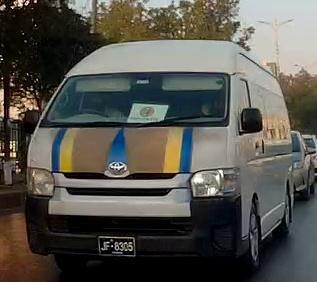car: (21, 34, 295, 274)
